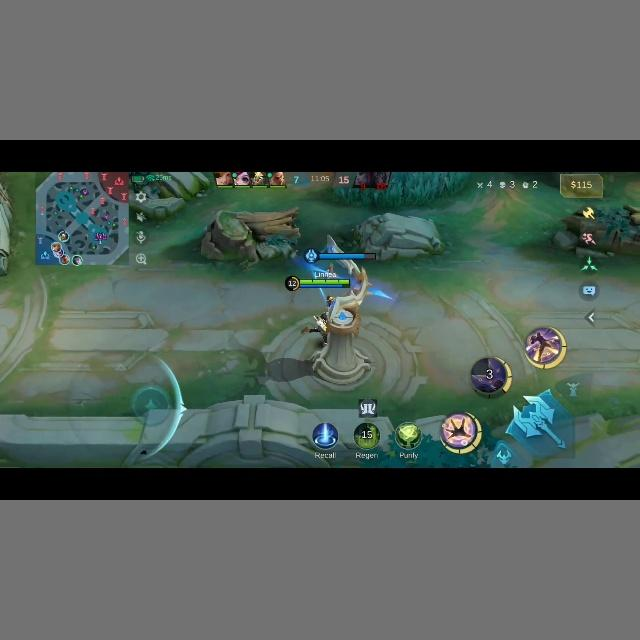hp_self: (320, 250, 376, 260), (298, 279, 348, 287)
turret_ally: (334, 276, 383, 376)
